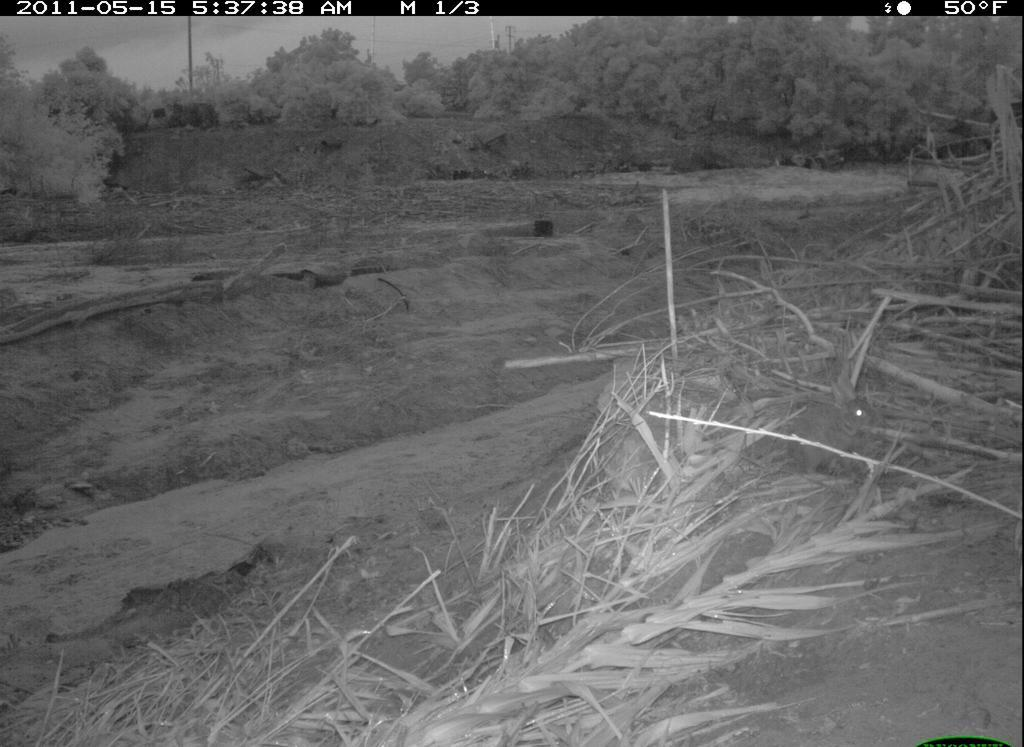rabbit: (781, 367, 886, 482)
